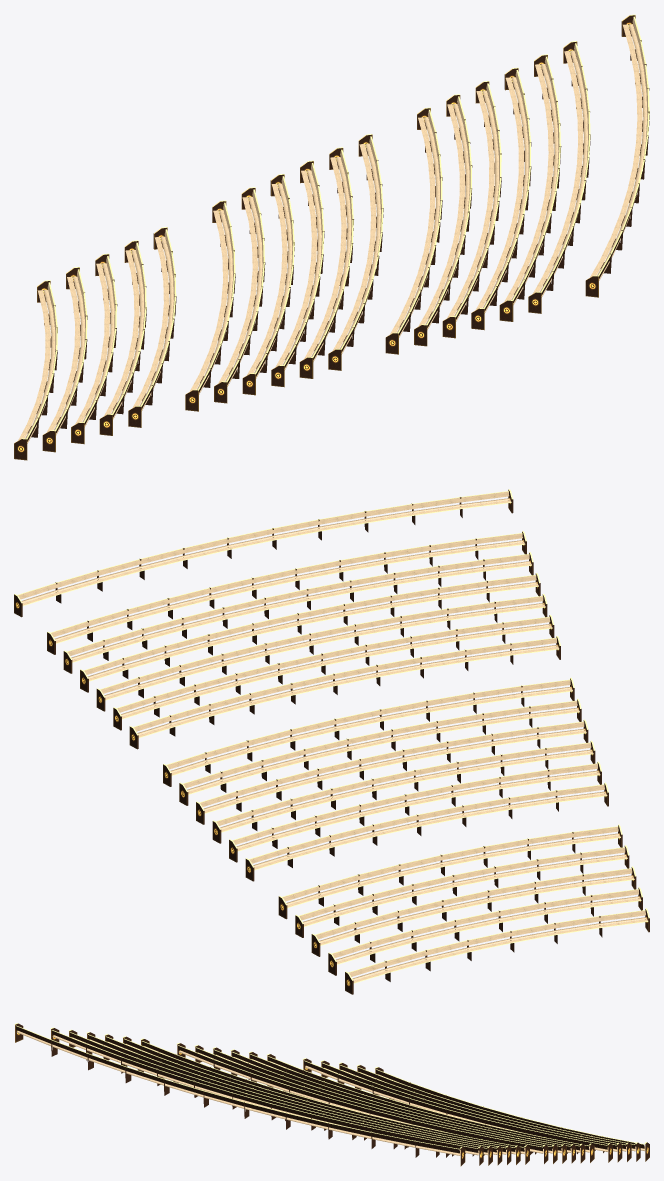
Rendered from mwm_mudbench2_end_g.glb.
3 renders of one model, top to bottom at view 1: azimuth 30°, elevation 25°; view 2: azimuth 150°, elevation 25°; view 3: azimuth 270°, elevation 25°, orthographic. The views are drawn at different scales.
Visible parts, largest first — view 1: cypress, walnut, gold, endpanel; view 2: cypress, edge_g, gold, walnut, endpanel; view 3: walnut, gold, cypress, endpanel.
Part boxes in pixels (bbox=[...]): cypress: bbox=[18, 17, 648, 443]; walnut: bbox=[27, 21, 649, 441]; gold: bbox=[14, 14, 649, 443]; endpanel: bbox=[14, 15, 635, 460]; cypress: bbox=[18, 491, 647, 982]; edge_g: bbox=[23, 502, 648, 983]; gold: bbox=[14, 489, 649, 980]; walnut: bbox=[21, 497, 649, 994]; endpanel: bbox=[14, 489, 648, 994]; walnut: bbox=[15, 1026, 644, 1157]; gold: bbox=[14, 1023, 646, 1149]; cypress: bbox=[16, 1031, 645, 1155]; endpanel: bbox=[15, 1023, 649, 1166].
Size of the model in its own units: 45.55 by 16.24 by 43.69.
Materials: 5 (3 with a texture image).
